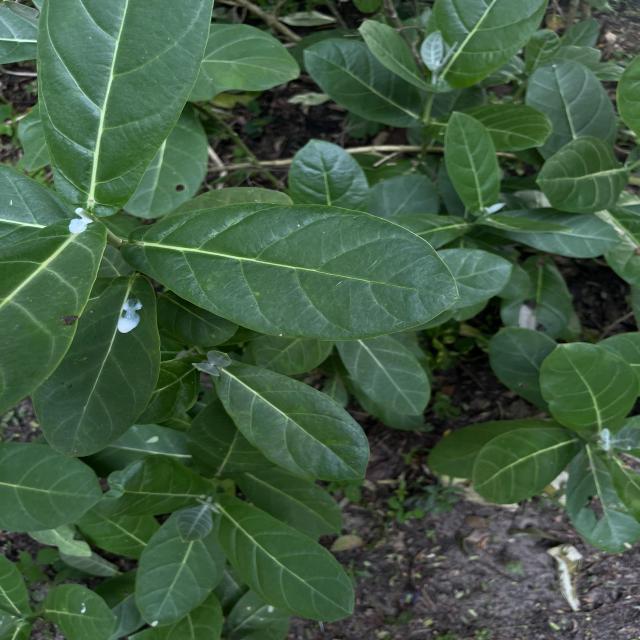Calotropis gigantea: (118, 202, 462, 344), (34, 0, 214, 210), (31, 269, 165, 458), (214, 356, 374, 484), (213, 498, 358, 625), (134, 510, 226, 628), (536, 338, 640, 439), (469, 425, 584, 507), (533, 134, 628, 213), (444, 109, 502, 214)
